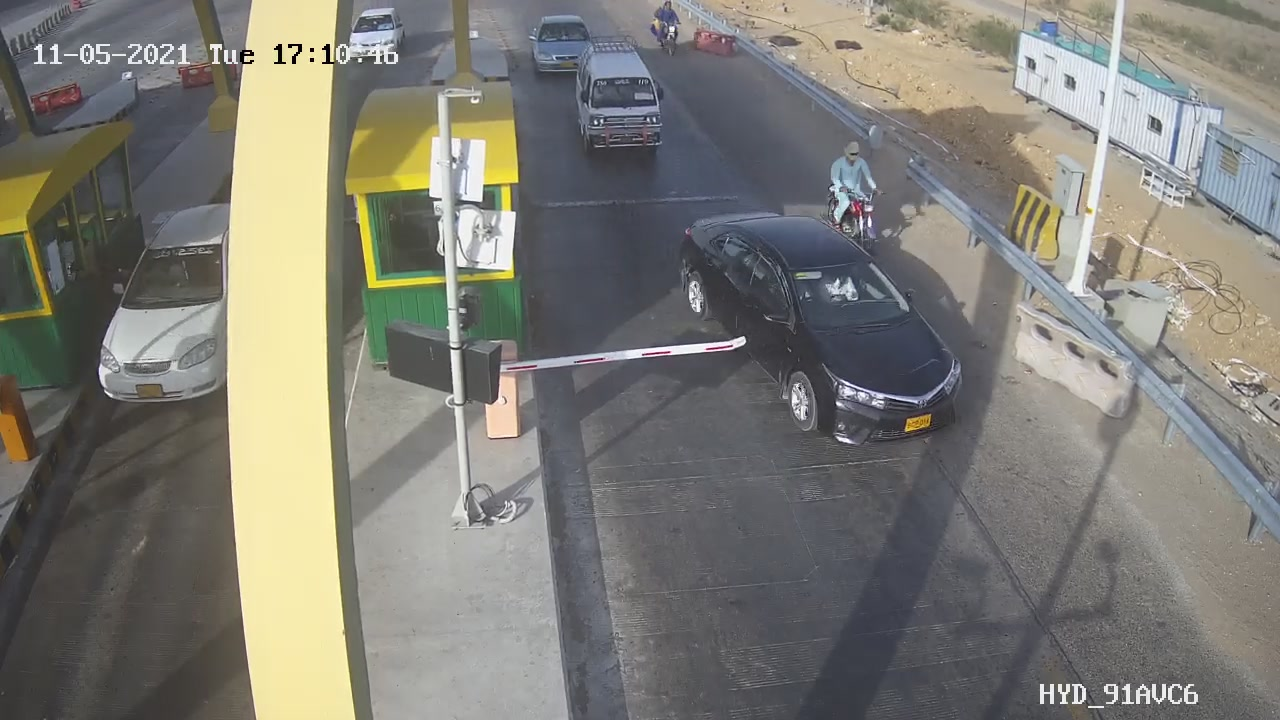F1: (659, 194, 990, 468), (559, 22, 682, 170)
